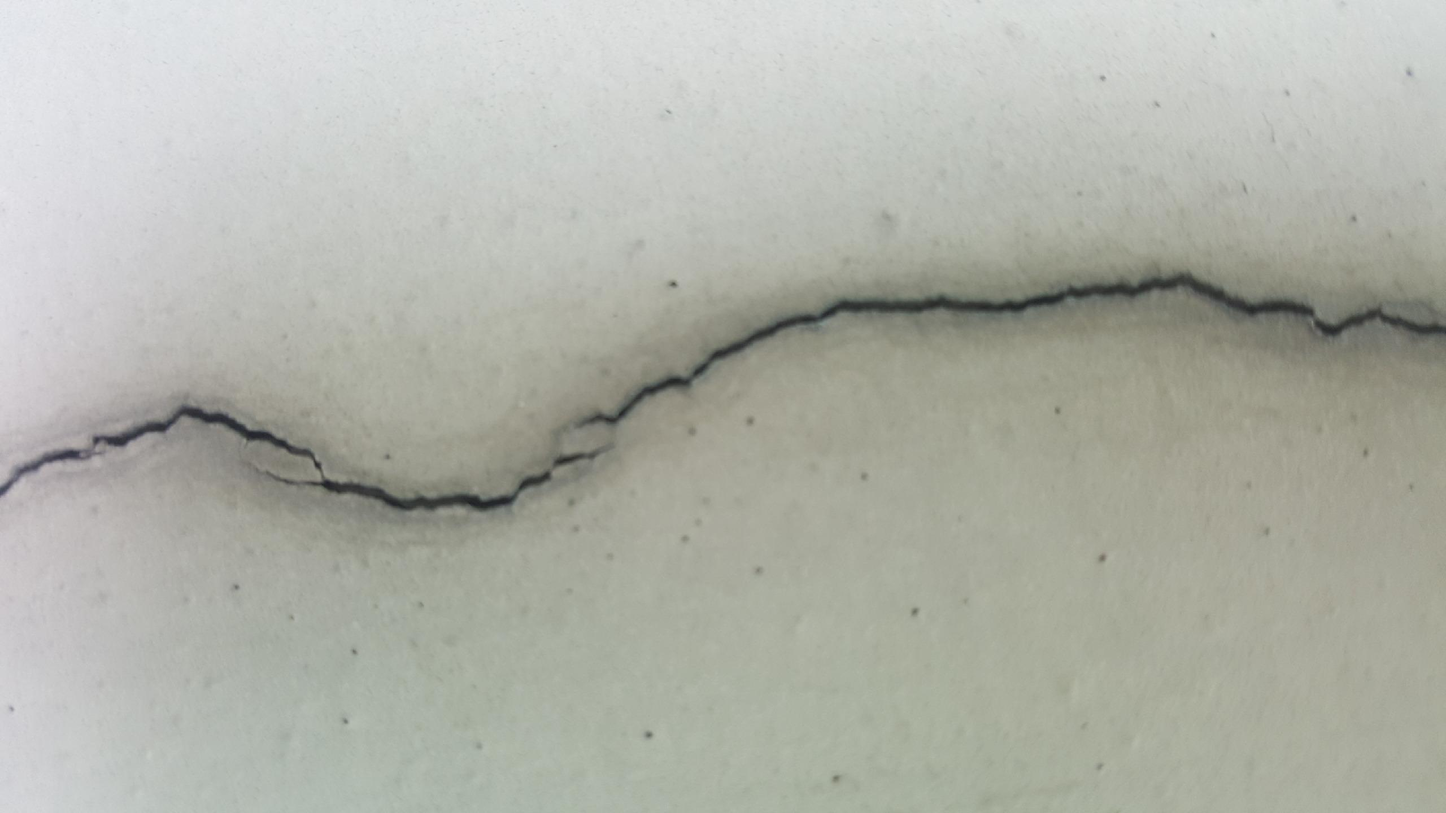crack: (576, 273, 1445, 425), (0, 406, 613, 512)
